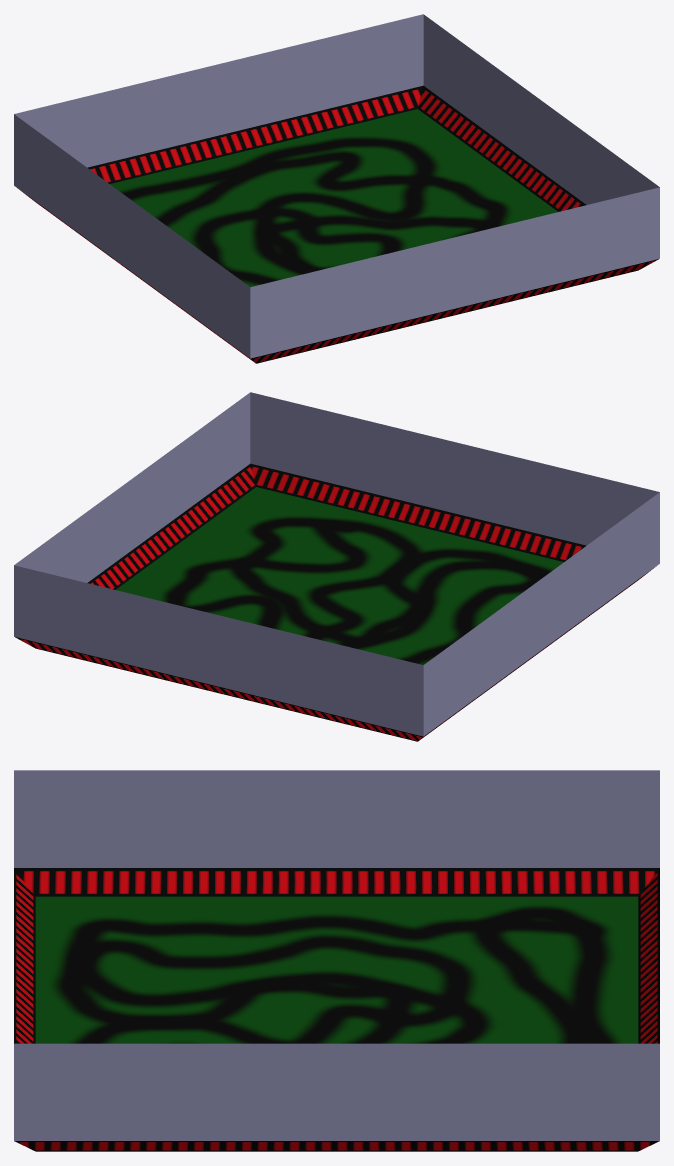
The model's file is arenaBasic.fbx.
3 renders of one model, top to bottom at view 1: azimuth 30°, elevation 25°; view 2: azimuth 150°, elevation 25°; view 3: azimuth 270°, elevation 25°, orthographic. The views are drawn at different scales.
Parts seen in each view (by area): view 1: pPlane1; view 2: pPlane1; view 3: pPlane1.
Part boxes in pixels (x1,y1,x2,y2): pPlane1: (14,14,659,363); pPlane1: (14,392,659,741); pPlane1: (14,770,659,1151).
Size of the model in its own units: 90 by 18 by 90.
